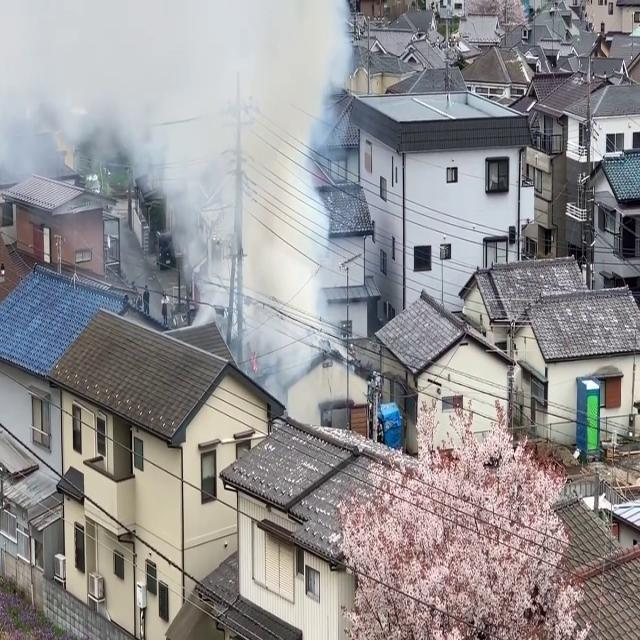Smoke: (134, 1, 360, 363)
